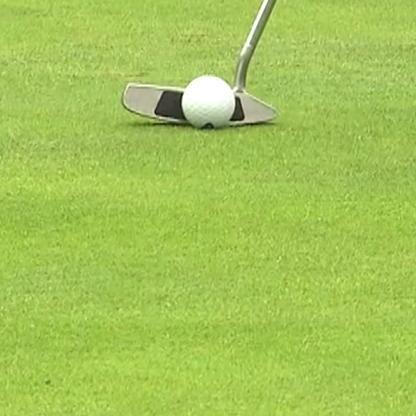golfball: (181, 71, 235, 127)
